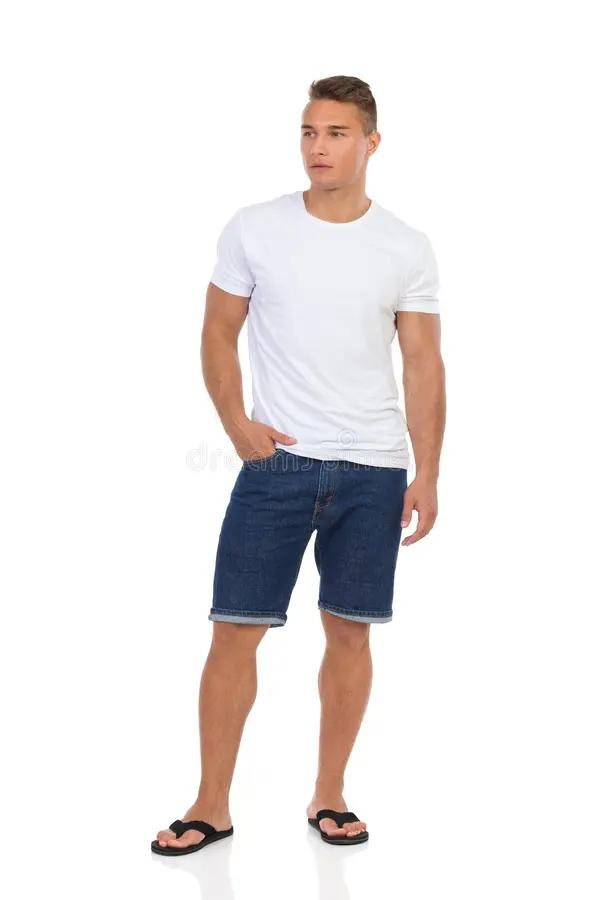Shorts: (205, 448, 412, 629)
short sleeve shirt: (201, 190, 444, 470)
